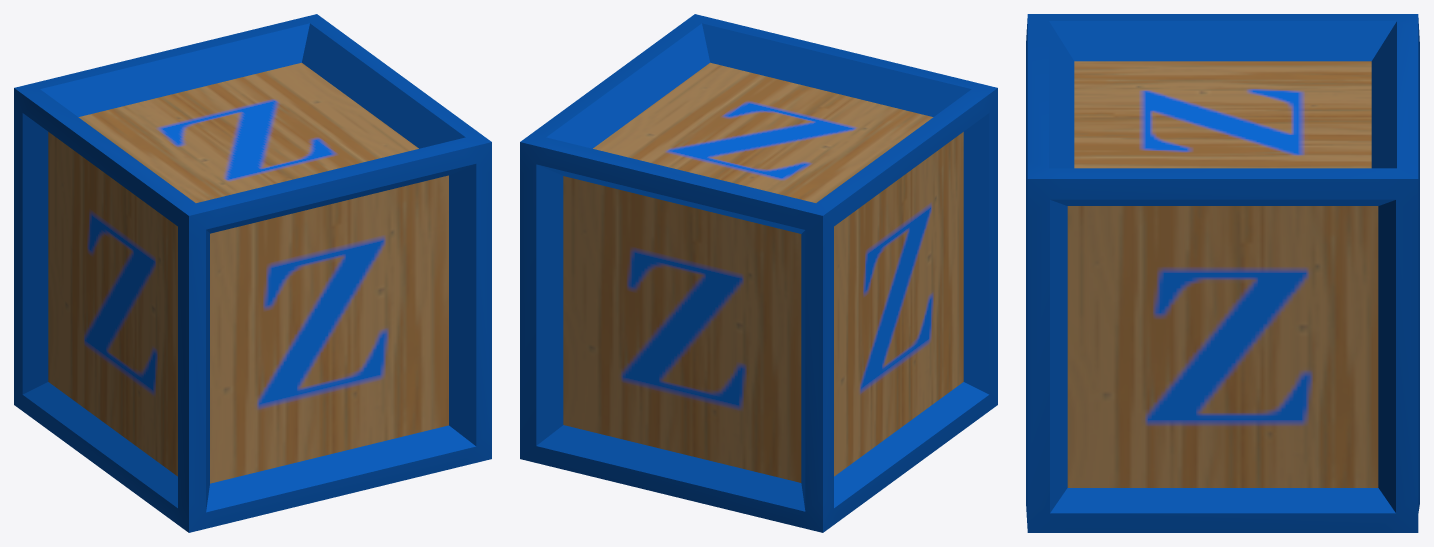
File: Letter_Z.fbx
3 views of the same model, side by side, from view 1: azimuth 30°, elevation 25°; view 2: azimuth 150°, elevation 25°; view 3: azimuth 270°, elevation 25° (orthographic). The views are drawn at different scales.
Parts seen in each view (by area): view 1: LetterBlock_Z; view 2: LetterBlock_Z; view 3: LetterBlock_Z.
Boxes of the visible parts, left/top/right/bottom form: LetterBlock_Z: left=14, top=14, right=491, bottom=532; LetterBlock_Z: left=520, top=14, right=997, bottom=532; LetterBlock_Z: left=1026, top=14, right=1419, bottom=532.
Bounding box in the file's own units: 0.1209 × 0.1213 × 0.121.
1 material, 1 textured.
